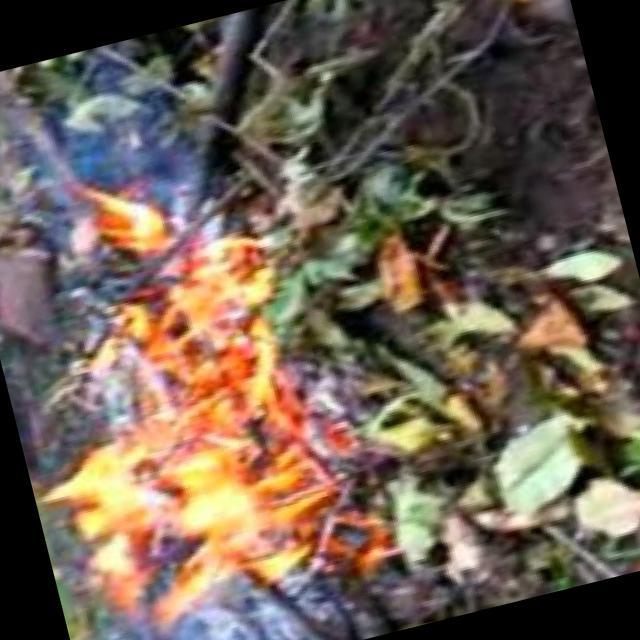Fire: (1, 164, 349, 640)
